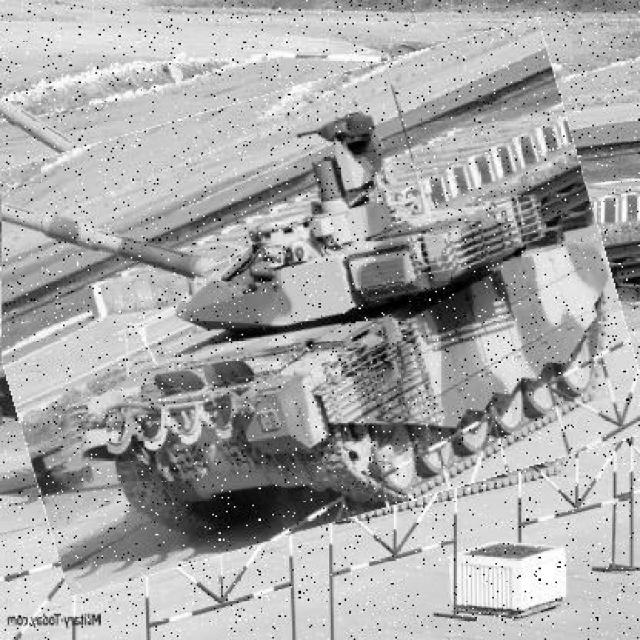Tank: (3, 55, 634, 561)
